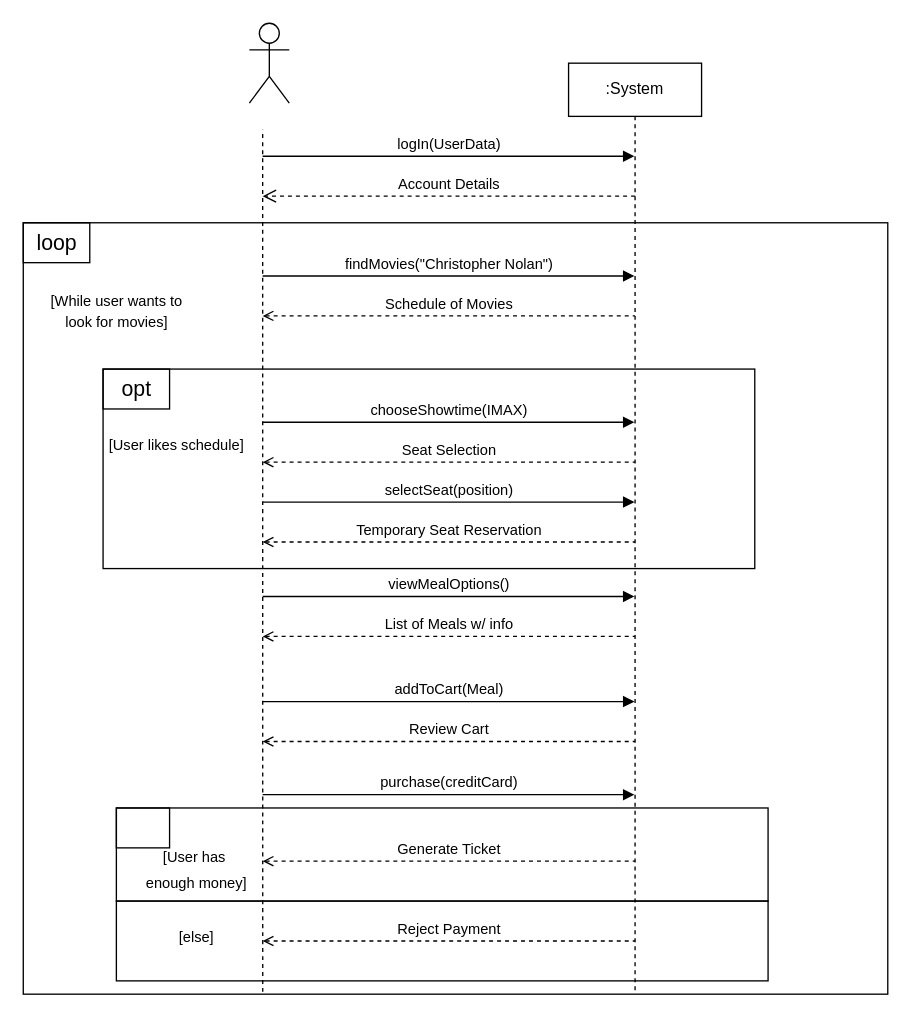
Image size: 911x1017. Some labels were removed from this diagram. Here are the shapes that lost their labels. From the top down, the centre of each, then its label:
(x=268, y=62): :Sophia
(x=142, y=827): alt
